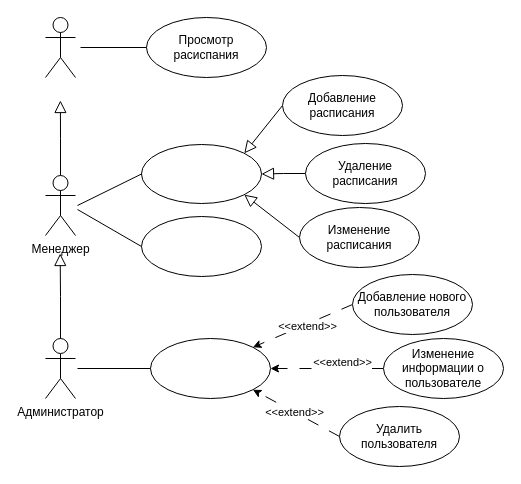
The diagram is 521 pixels wide and 484 high, and some of its shapes have lost their labels. Each missing label, with the centre of its shape:
Пользователь: (x=60, y=47)
Просмотр информации о пользователях: (x=210, y=368)
Редактирование расписания: (x=201, y=174)
Экспортирование расписания: (x=201, y=246)
